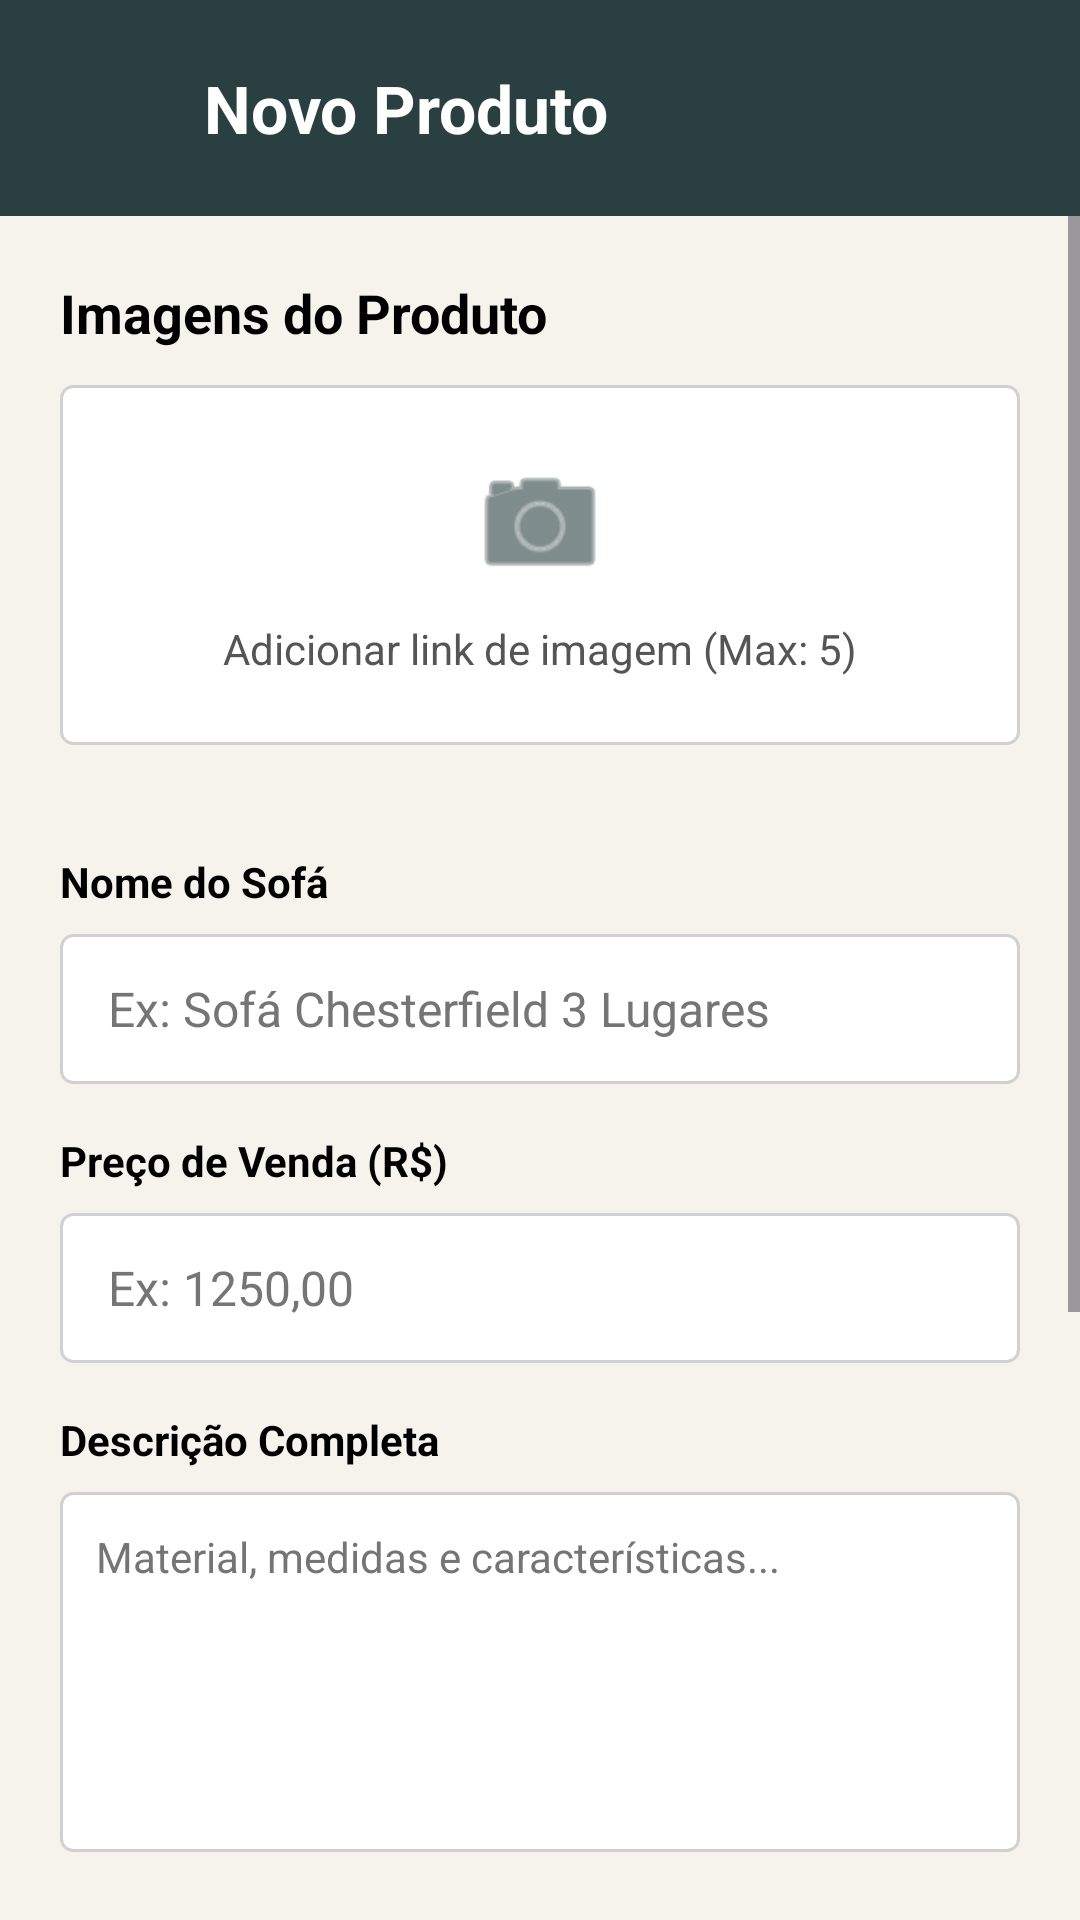

Screen size 1080*1920. Icon name, then its center in pixels as [x,y]:
camera: [540,521]
